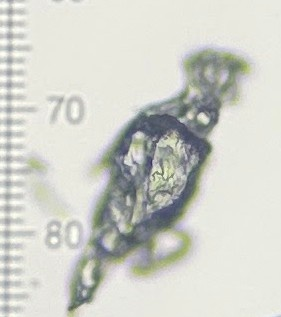microplastic: (64, 47, 252, 317)
